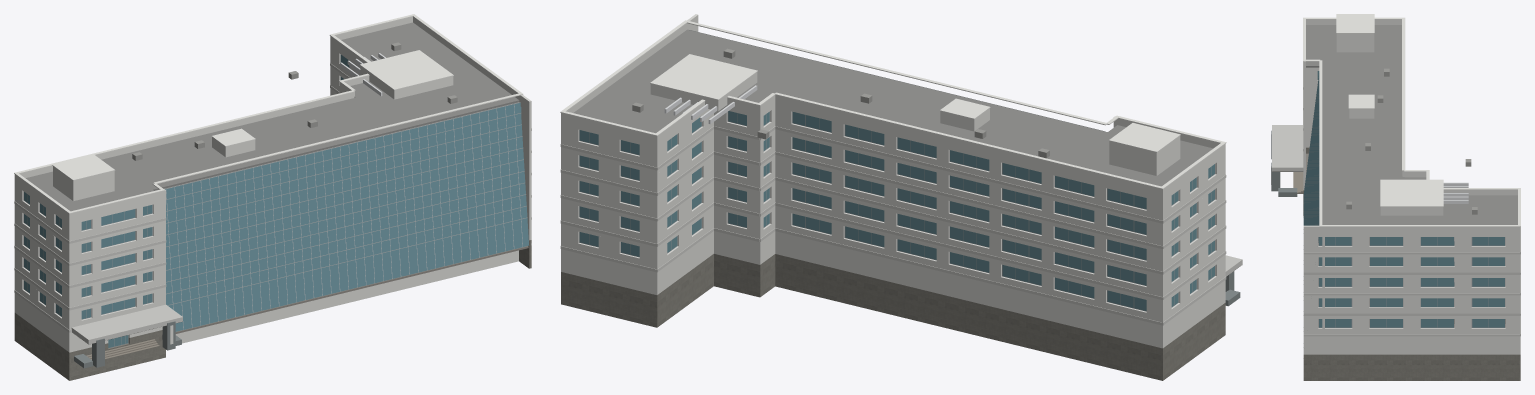
The picture shows the model from 3 angles, left to right: view 1: azimuth 30°, elevation 25°; view 2: azimuth 150°, elevation 25°; view 3: azimuth 270°, elevation 25°; orthographic projection. The views are drawn at different scales.
Visible parts, largest first — view 1: w451562737__curtain-glass, w451562737__panel-wall, w451562737__roof, w451562737__mullion, w451562737__trim, w451562737__band-concrete, w451562737__plinth-wall, w451562737__glass, w451562737__floor-slab, w451562737__frame, w451562737__granite-wall, w451562737__ac (+1 smaller); view 2: w451562737__panel-wall, w451562737__glass, w451562737__plinth-wall, w451562737__roof, w451562737__band-concrete, w451562737__trim, w451562737__frame, w451562737__steel-white, w451562737__ac; view 3: w451562737__panel-wall, w451562737__roof, w451562737__plinth-wall, w451562737__glass, w451562737__trim, w451562737__band-concrete, w451562737__curtain-glass, w451562737__frame, w451562737__steel-white, w451562737__granite-wall, w451562737__ac.
Boxes of the visible parts, x1,y1,x2,y2 form: w451562737__curtain-glass: (101,103,528,331); w451562737__panel-wall: (14,16,531,352); w451562737__roof: (25,22,519,211); w451562737__mullion: (164,102,531,329); w451562737__trim: (14,14,523,213); w451562737__band-concrete: (14,63,531,344); w451562737__plinth-wall: (14,240,531,380); w451562737__glass: (24,54,349,319); w451562737__floor-slab: (175,246,528,333); w451562737__frame: (23,191,152,348); w451562737__granite-wall: (74,321,181,368); w451562737__ac: (132,42,457,160); w451562737__panel-wall: (561,14,1225,348); w451562737__glass: (579,111,1214,310); w451562737__plinth-wall: (561,254,1225,380); w451562737__roof: (573,29,1213,186); w451562737__band-concrete: (560,126,1242,325); w451562737__trim: (560,20,1226,189); w451562737__frame: (579,111,1215,311); w451562737__steel-white: (664,85,757,124); w451562737__ac: (632,48,1049,158); w451562737__panel-wall: (1303,19,1520,354); w451562737__roof: (1306,25,1517,224); w451562737__plinth-wall: (1303,147,1520,380); w451562737__glass: (1317,71,1504,327); w451562737__trim: (1303,14,1520,226); w451562737__band-concrete: (1272,62,1520,336); w451562737__curtain-glass: (1303,73,1319,242); w451562737__frame: (1318,237,1505,327); w451562737__steel-white: (1443,182,1468,203); w451562737__granite-wall: (1271,130,1297,196); w451562737__ac: (1346,68,1477,214).
Bounding box in the file's own units: 78.52 × 29.6 × 39.79.
17 materials, 1 textured.
